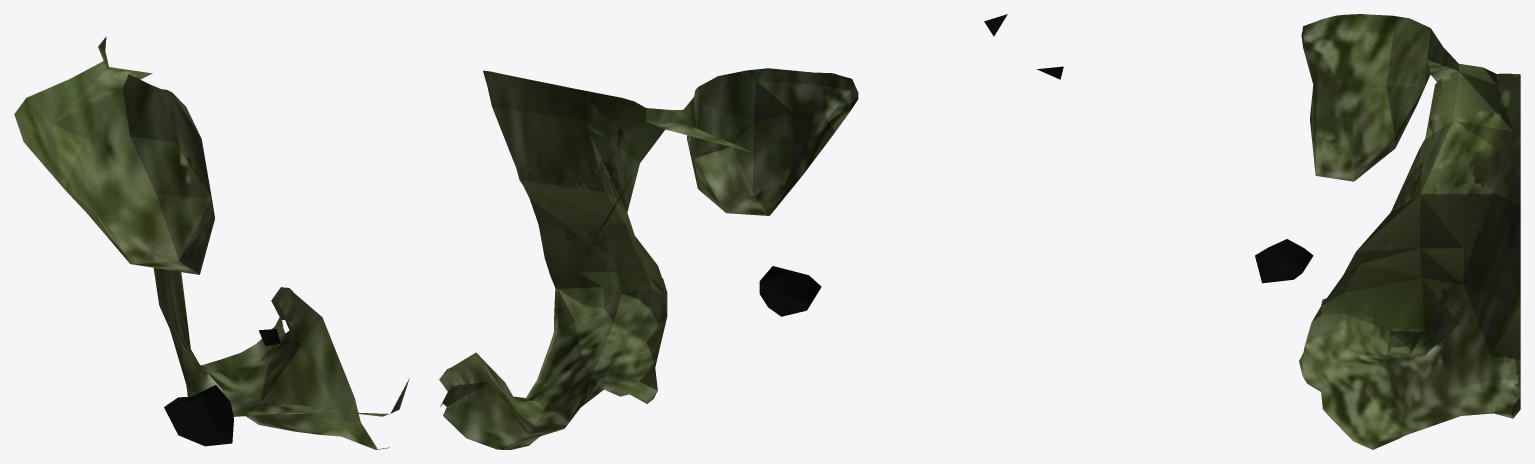
3 renders of one model, left to right at view 1: azimuth 30°, elevation 25°; view 2: azimuth 150°, elevation 25°; view 3: azimuth 270°, elevation 25°, orthographic. The views are drawn at different scales.
Size of the model in its own units: 1.38 by 1.5 by 2.16.
1 material, 1 textured.
